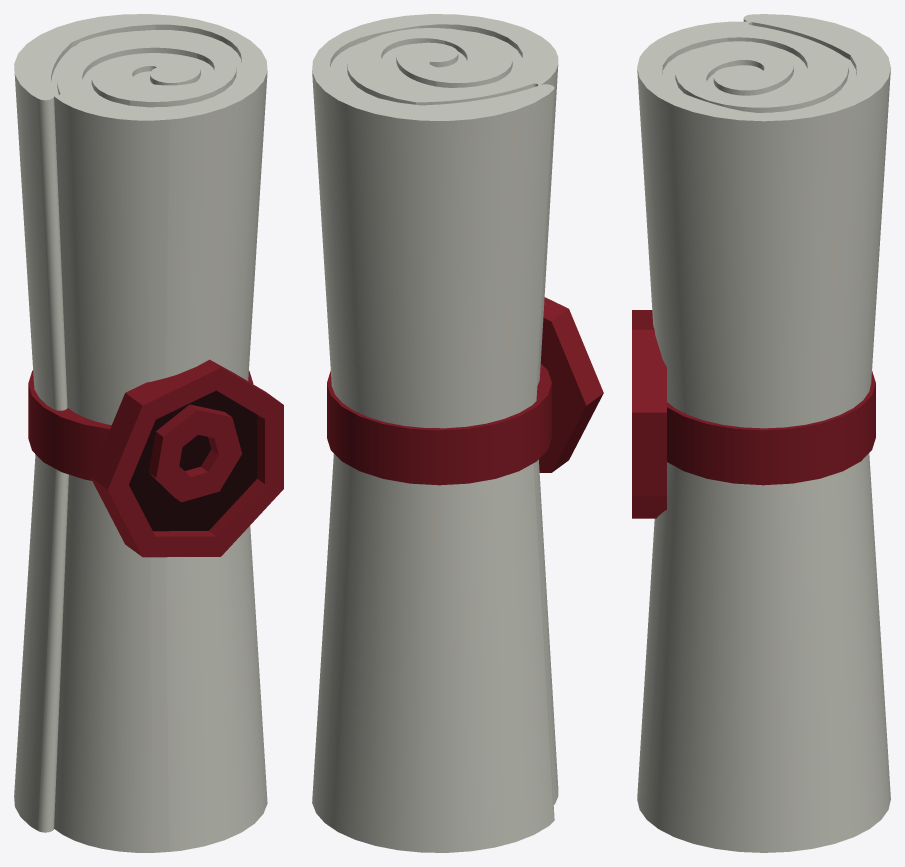
File: MapRolled.fbx
3 views of the same model, side by side, from view 1: azimuth 30°, elevation 25°; view 2: azimuth 150°, elevation 25°; view 3: azimuth 270°, elevation 25° (orthographic).
Visible parts, largest first — view 1: Model; view 2: Model; view 3: Model.
Boxes of the visible parts, left/top/right/bottom form: Model: left=14, top=14, right=283, bottom=852; Model: left=312, top=14, right=603, bottom=852; Model: left=632, top=14, right=890, bottom=852.
Bounding box in the file's own units: 32.28 × 103 × 32.93.
